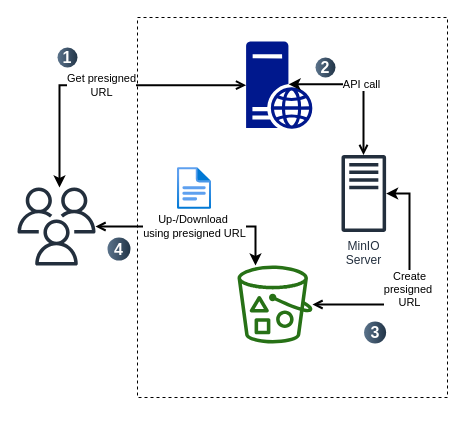
This 465x423 diagram has some shape labels left out. Each missing label, with the box of its shape:
Application server: (246, 41, 312, 128)
S3 Bucket: (237, 265, 312, 343)
